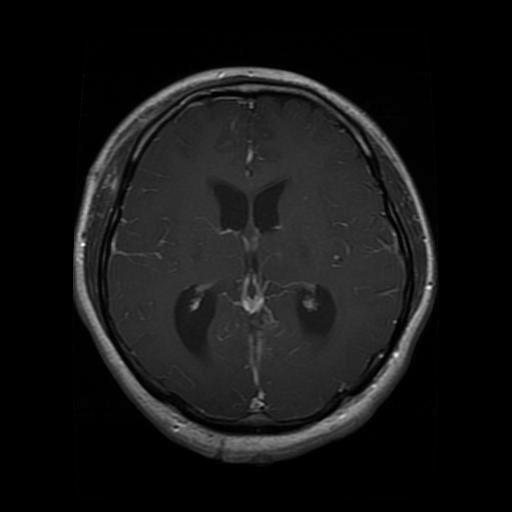Tumour-Glioma: (362, 206, 427, 301)
